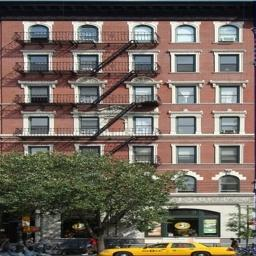building: (1, 0, 256, 237)
